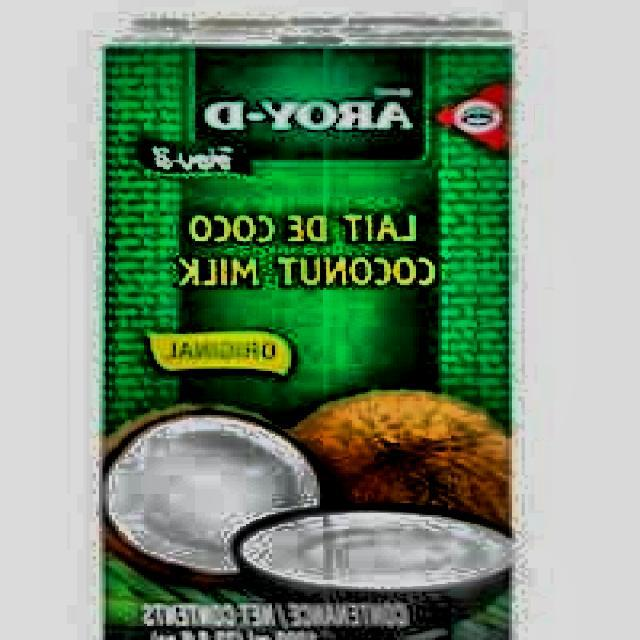cardboard: (100, 18, 519, 640)
